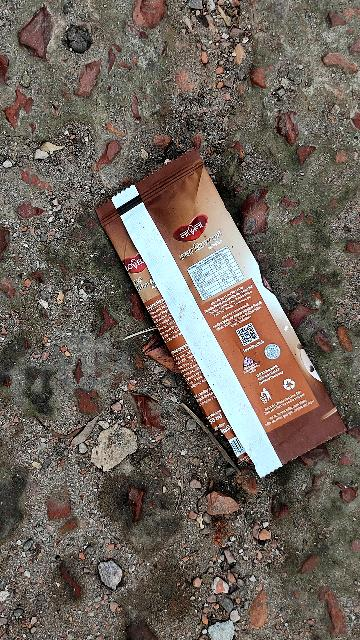packet: (75, 126, 341, 484)
